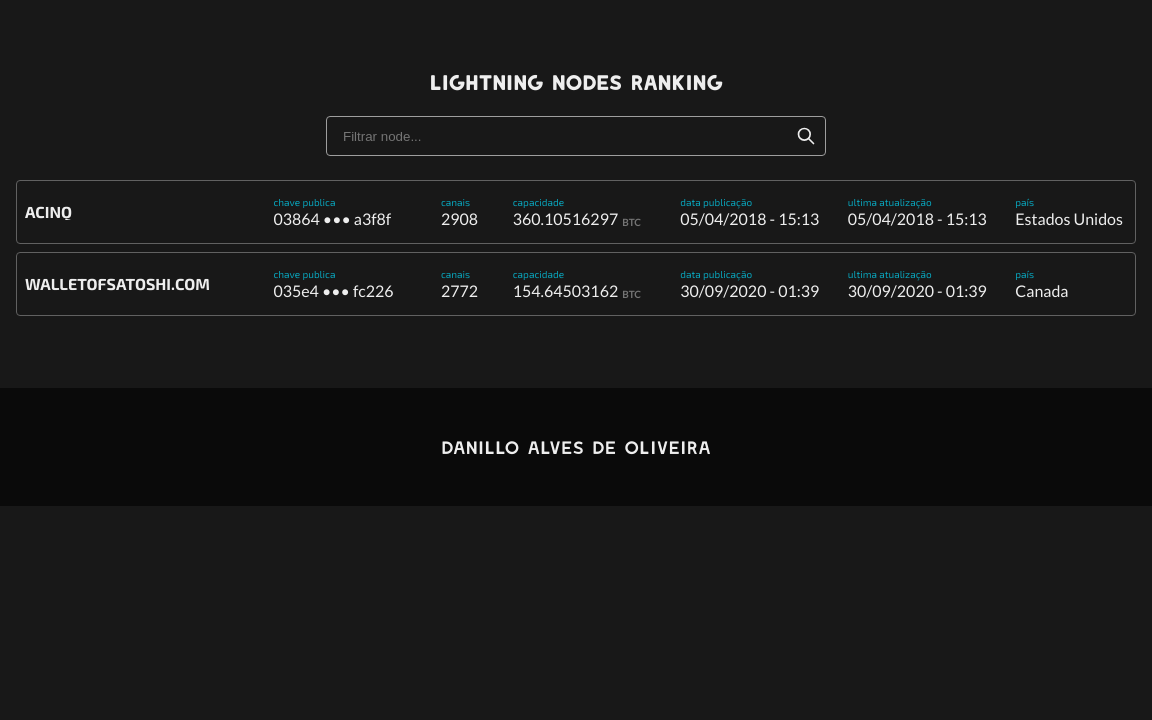
Scenario: HomeScreen › filter not found any data
Note: when filter, expect to not find any element
Type "lorem-ipsum" into the field with test id "search-input". click: point(576, 136)
box: x1=326 y1=116 x2=826 y2=156
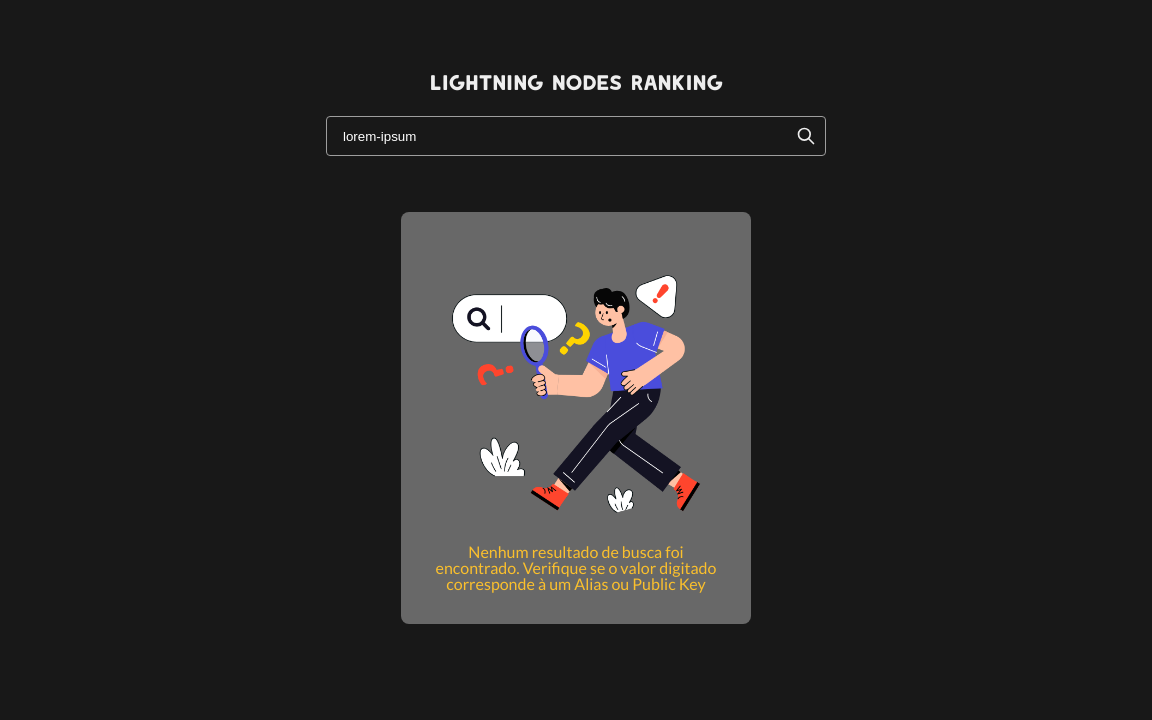
Now the text "Nenhum resultado de busca foi encontrado" is shown, box x1=436 y1=542 x2=716 y2=593
